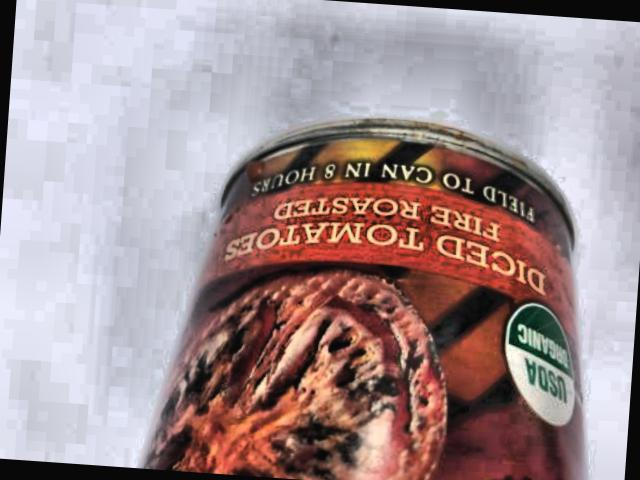Almennt: (127, 89, 640, 480)
